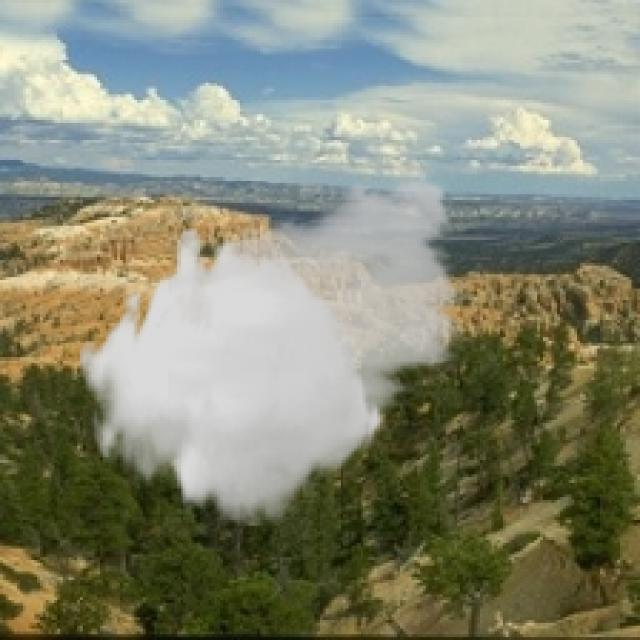smoke: (77, 160, 474, 526)
